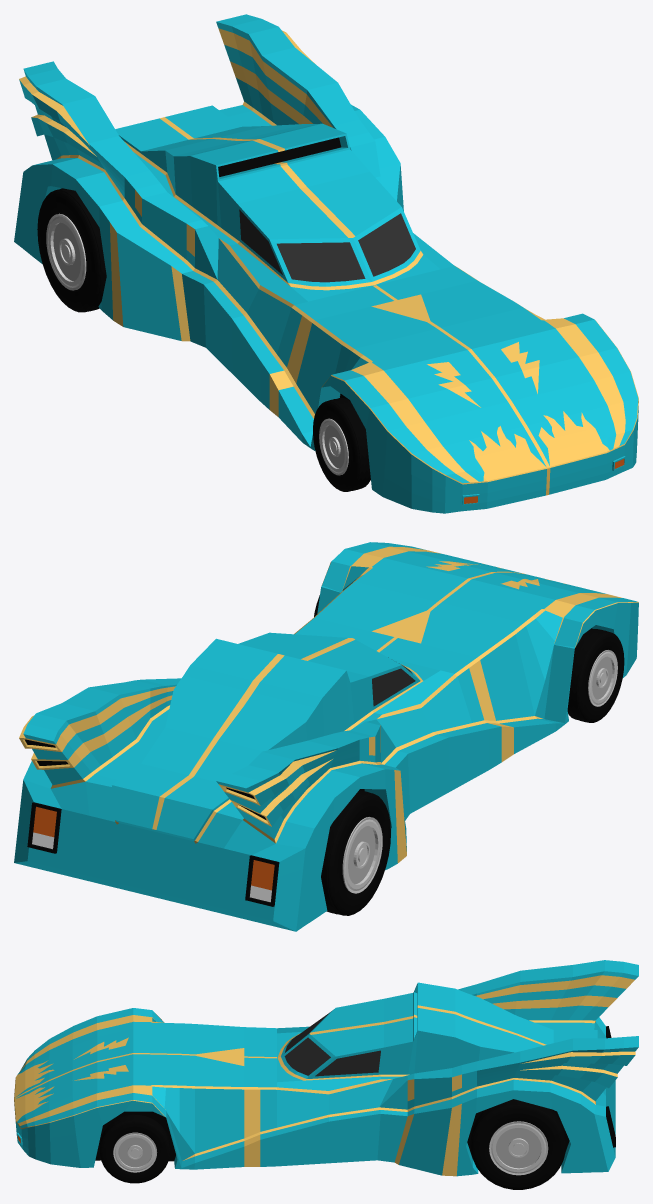
3 views of the same model, one above another, from view 1: azimuth 30°, elevation 25°; view 2: azimuth 150°, elevation 25°; view 3: azimuth 270°, elevation 25° (orthographic). The views are drawn at different scales.
Parts seen in each view (by area): view 1: Body35A, wheel.003, wheel.004; view 2: Body35A, wheel.003, wheel.004; view 3: Body35A, wheel.1, wheel.2.
Part boxes in pixels (x1,y1,x2,y2): Body35A: (14, 14, 638, 513); wheel.003: (37, 188, 106, 312); wheel.004: (313, 398, 370, 491); Body35A: (14, 542, 638, 931); wheel.003: (321, 790, 390, 915); wheel.004: (567, 629, 624, 722); Body35A: (14, 960, 638, 1176); wheel.1: (470, 1099, 566, 1189); wheel.2: (99, 1114, 170, 1183).
Size of the model in its own units: 113 by 63.59 by 272.
